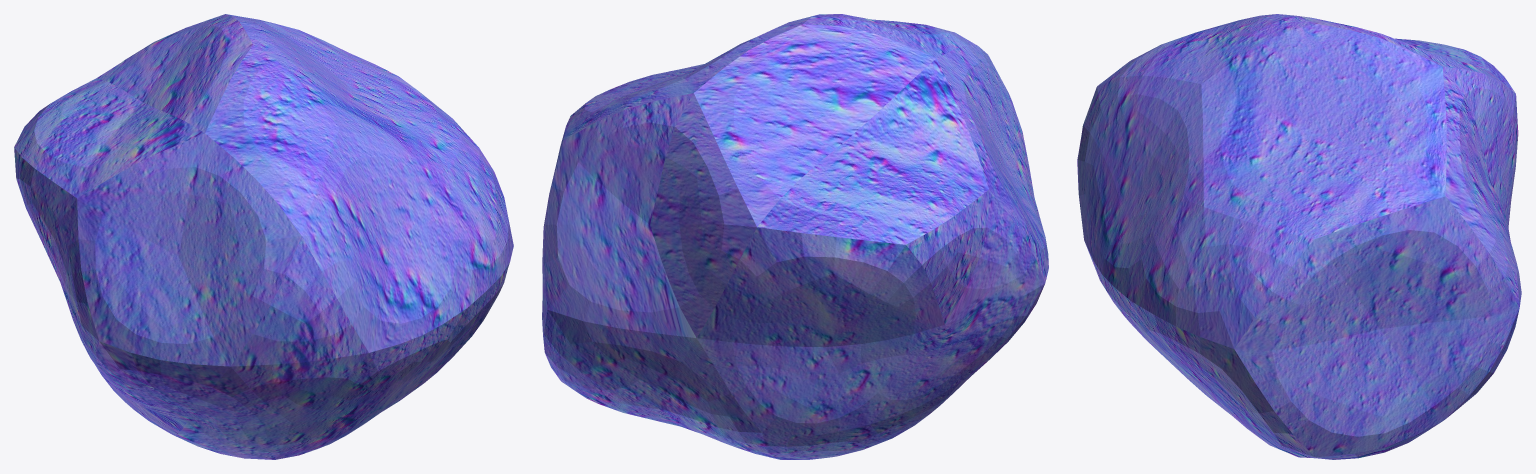
File: smallasteroid2_LOD2.fbx
3 views of the same model, side by side, from view 1: azimuth 30°, elevation 25°; view 2: azimuth 150°, elevation 25°; view 3: azimuth 270°, elevation 25° (orthographic). The views are drawn at different scales.
Parts seen in each view (by area): view 1: Icosphere; view 2: Icosphere; view 3: Icosphere.
Part boxes in pixels (x1,y1,x2,y2): Icosphere: (14,14,513,459); Icosphere: (542,14,1048,459); Icosphere: (1077,14,1521,459).
Size of the model in its own units: 242 by 221 by 230.
